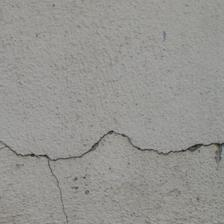Crack: (71, 0, 153, 90), (203, 0, 224, 55)
